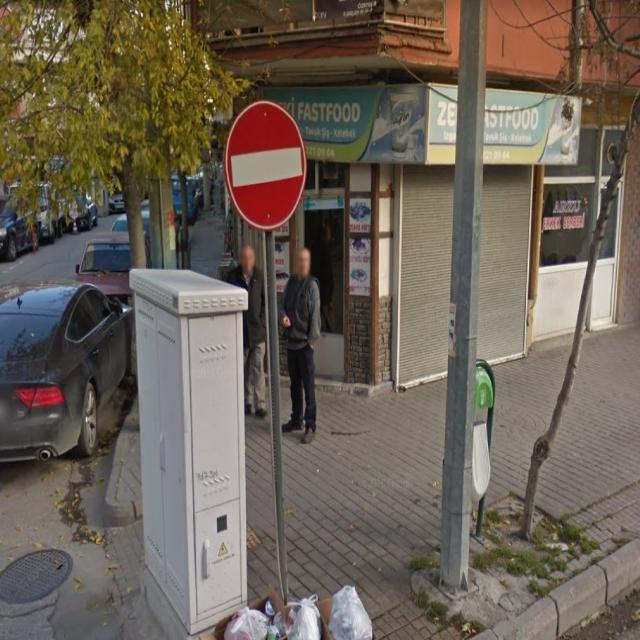girisyok: (224, 99, 307, 230)
